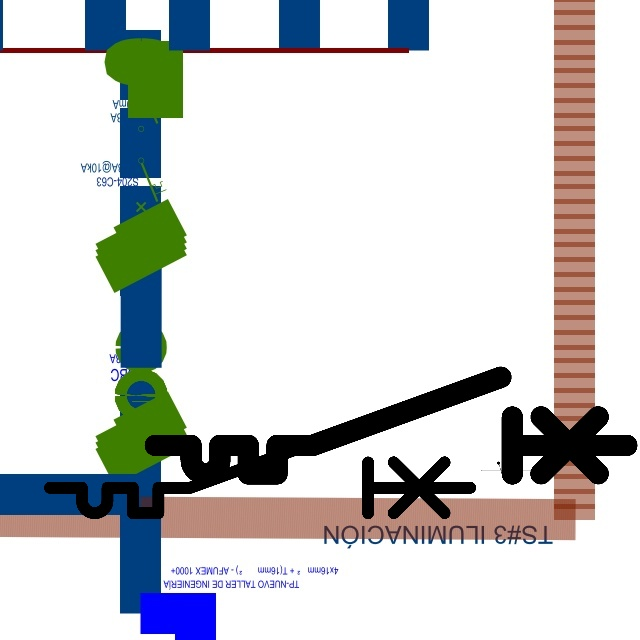interruptor_termomagnetico: (143, 365, 639, 486), (39, 416, 481, 524)
